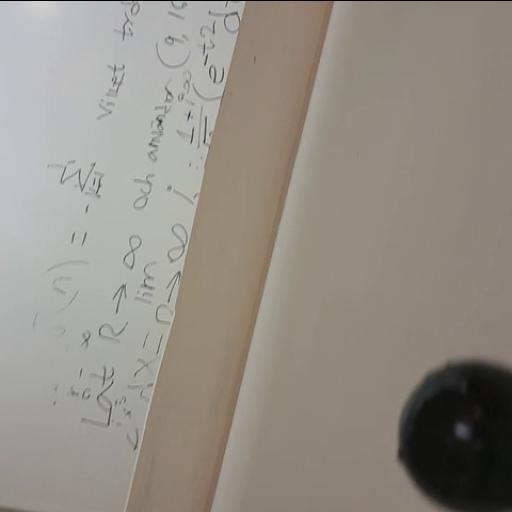dead: (394, 359, 512, 512)
